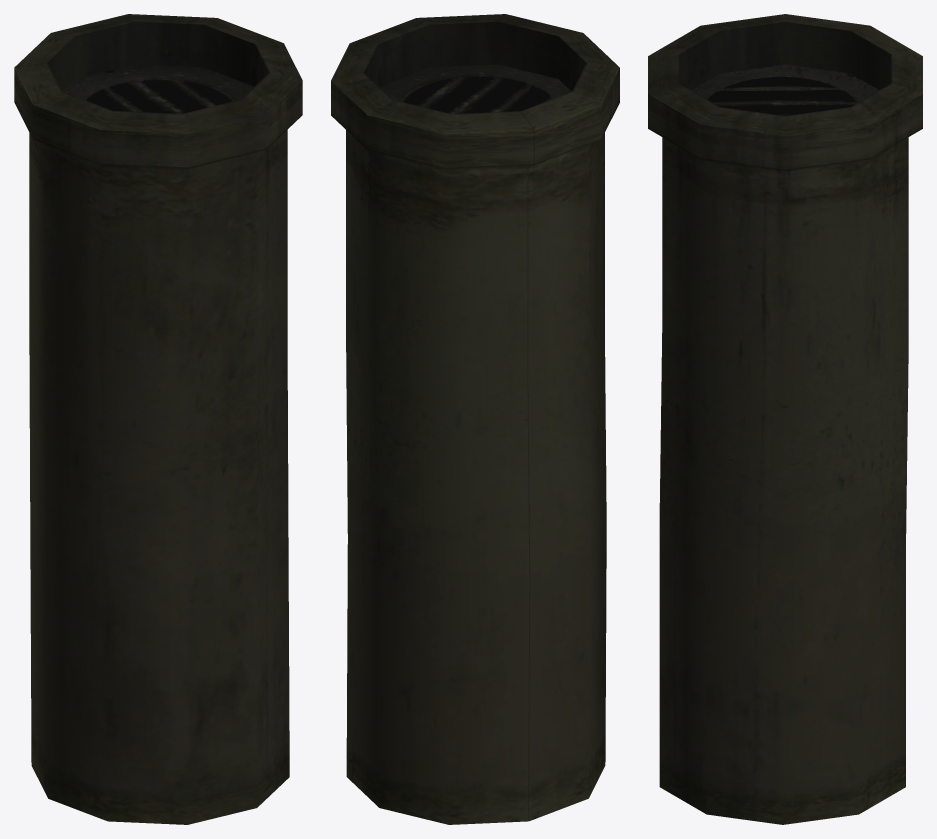
File: BrokenPipe2.DAE
The picture shows the model from 3 angles, left to right: view 1: azimuth 30°, elevation 25°; view 2: azimuth 150°, elevation 25°; view 3: azimuth 270°, elevation 25°; orthographic projection.
Visible parts, largest first — view 1: Cylinder001; view 2: Cylinder001; view 3: Cylinder001.
Part boxes in pixels (x1,y1,x2,y2): Cylinder001: (14,14,302,824); Cylinder001: (331,14,619,824); Cylinder001: (648,14,922,824).
Bounding box in the file's own units: 0.7585 × 0.7214 × 2.03.
